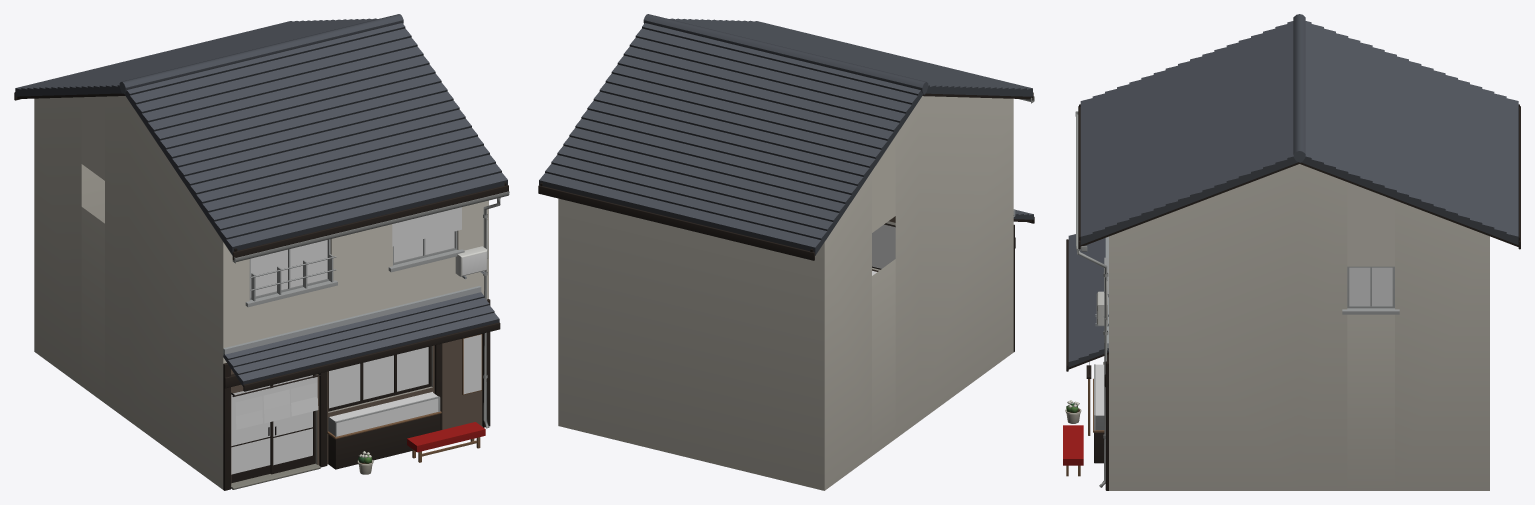
File: ShopWagashiKM.fbx
The picture shows the model from 3 angles, left to right: view 1: azimuth 30°, elevation 25°; view 2: azimuth 150°, elevation 25°; view 3: azimuth 270°, elevation 25°; orthographic projection.
Parts seen in each view (by area): view 1: ShopWagashiKM; view 2: ShopWagashiKM; view 3: ShopWagashiKM.
Boxes of the visible parts, x1,y1,x2,y2 form: ShopWagashiKM: (14,14,509,490); ShopWagashiKM: (538,14,1034,490); ShopWagashiKM: (1063,14,1520,490).
Bounding box in the file's own units: 6.8 × 7.95 × 9.61.
